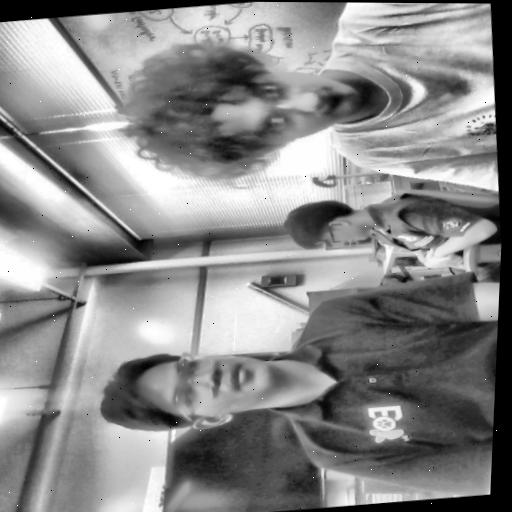Daifuku: (99, 30, 367, 193)
Not Daifuku: (89, 343, 282, 443), (278, 195, 371, 251)
